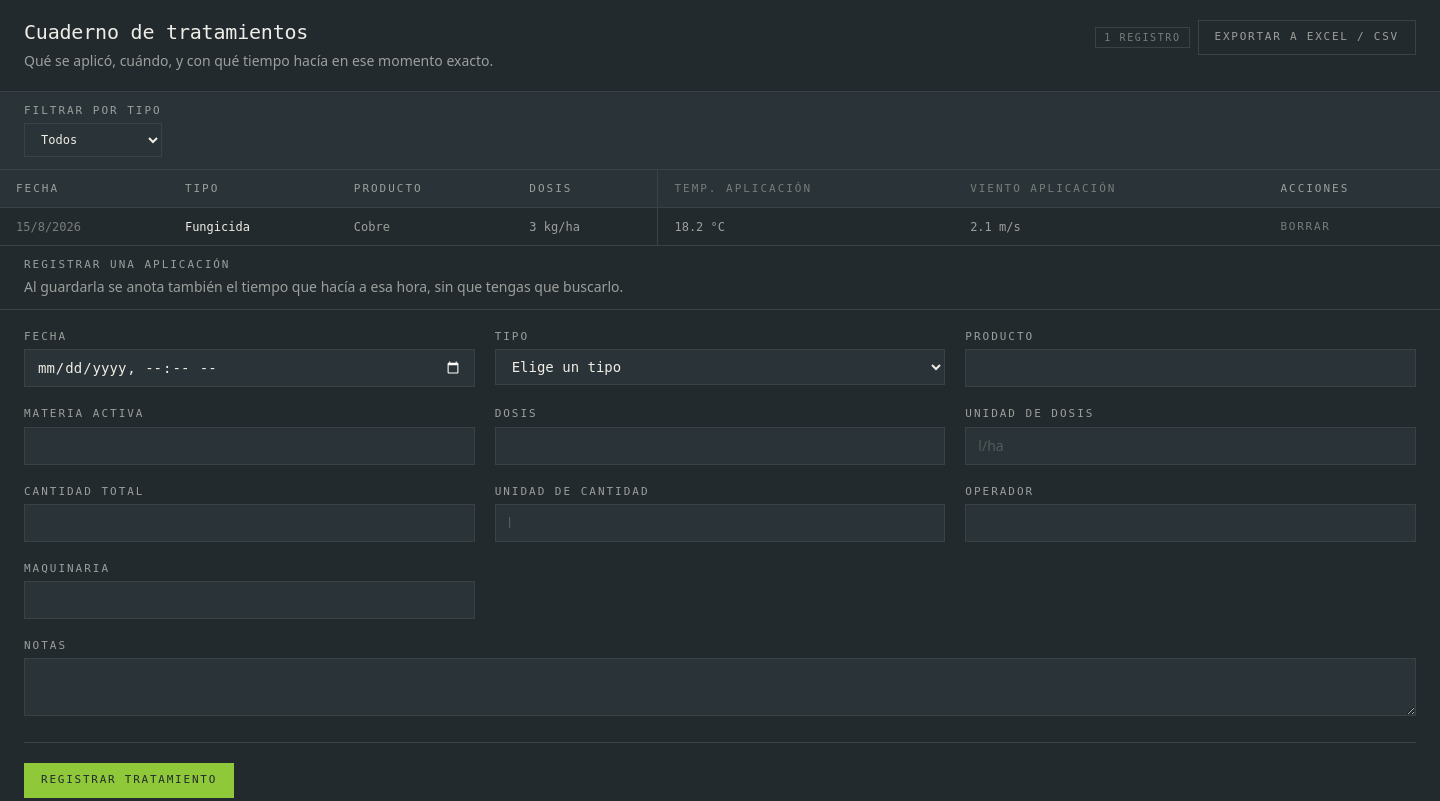
Scenario: un tipo personalizado creado queda disponible como opcion despues
Expected: the table is shown, [0,170,1439,245]
Step 1. Type "2026-08-20T09:00" into the field labelled "Fecha" → (249,368), box [24,349,475,387]
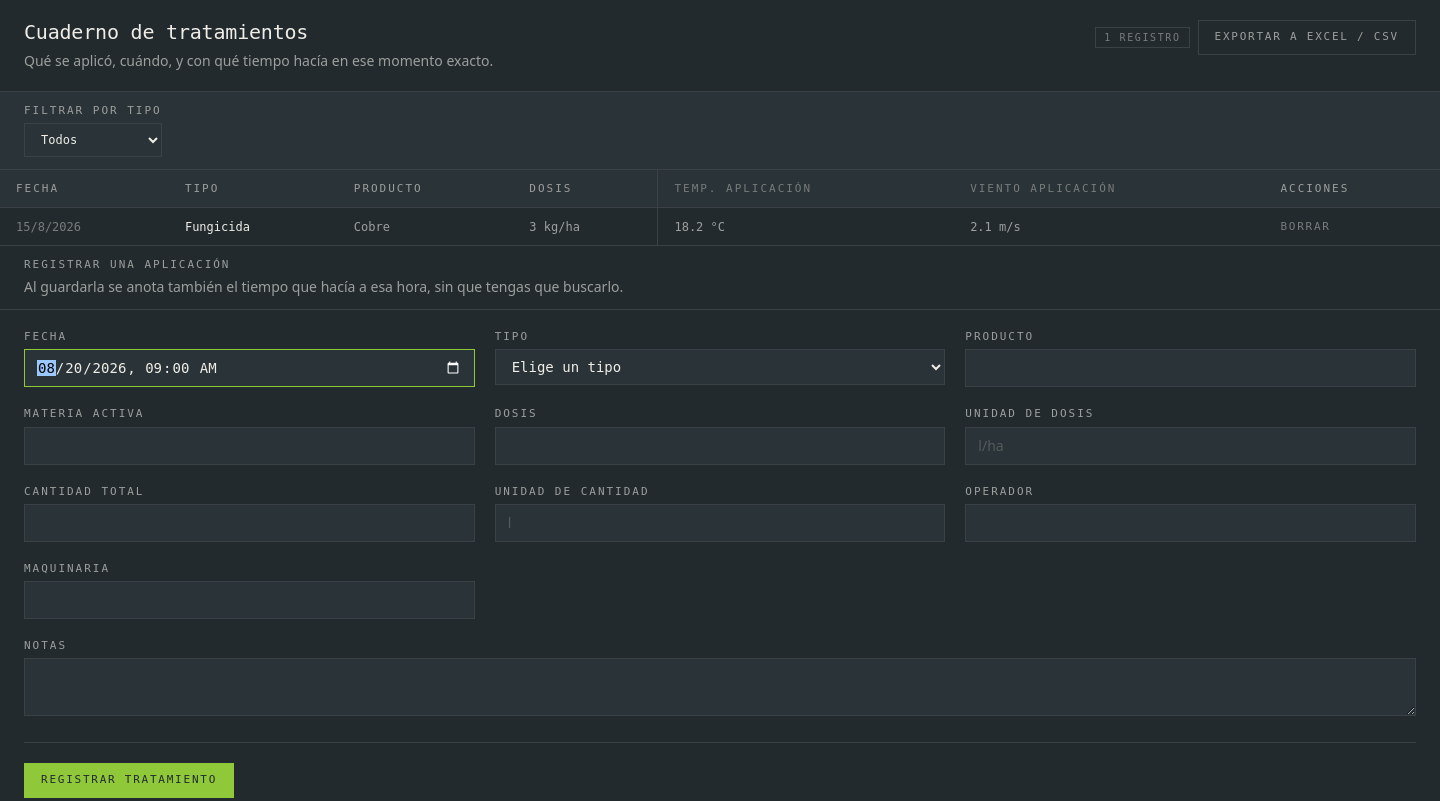
Step 2. Select "Otro" in the dropdown labelled "Tipo" → (720,367), box [495,349,945,385]
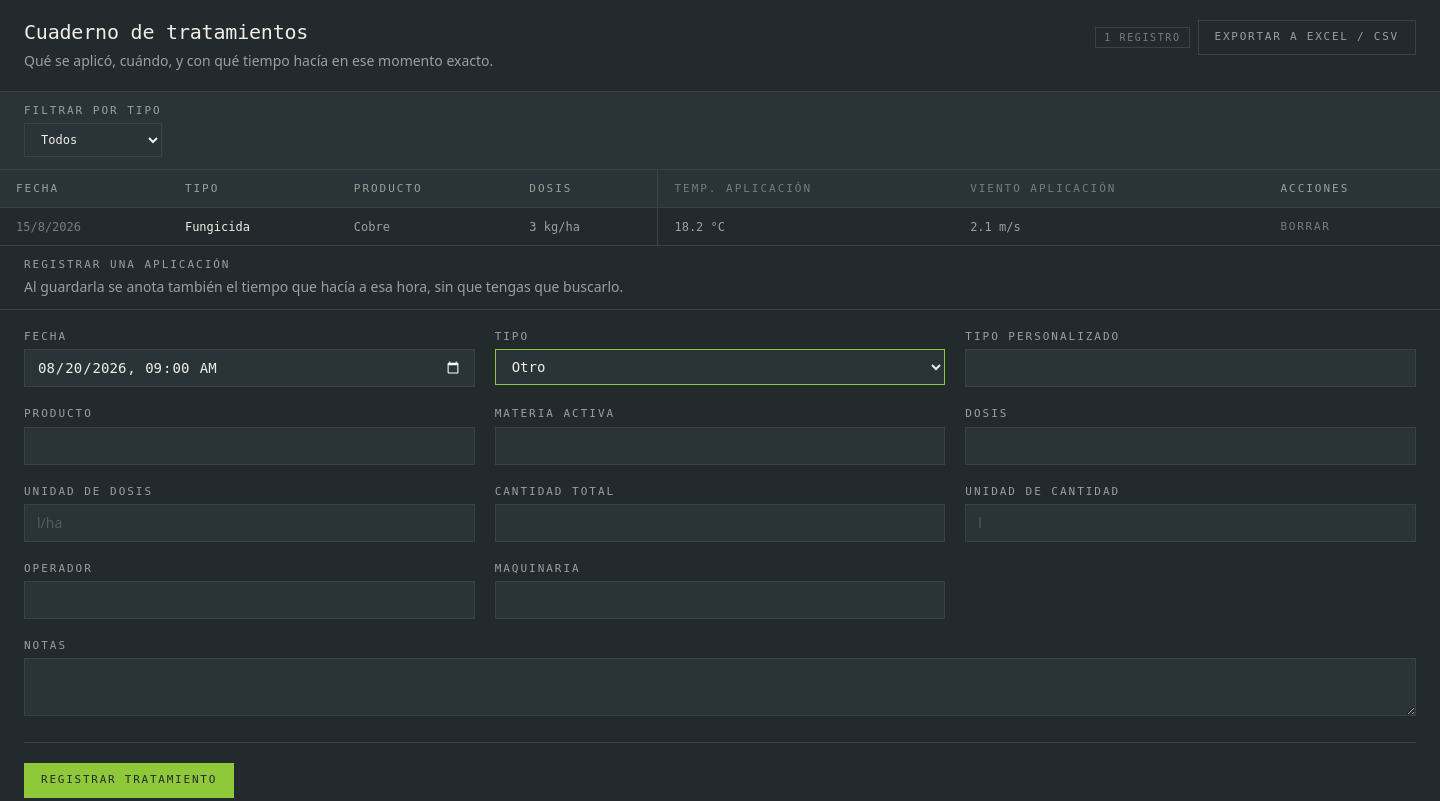
Step 3. Type "Cobertura vegetal" into the field labelled "Tipo personalizado" → (1191,368), box [965,349,1416,387]
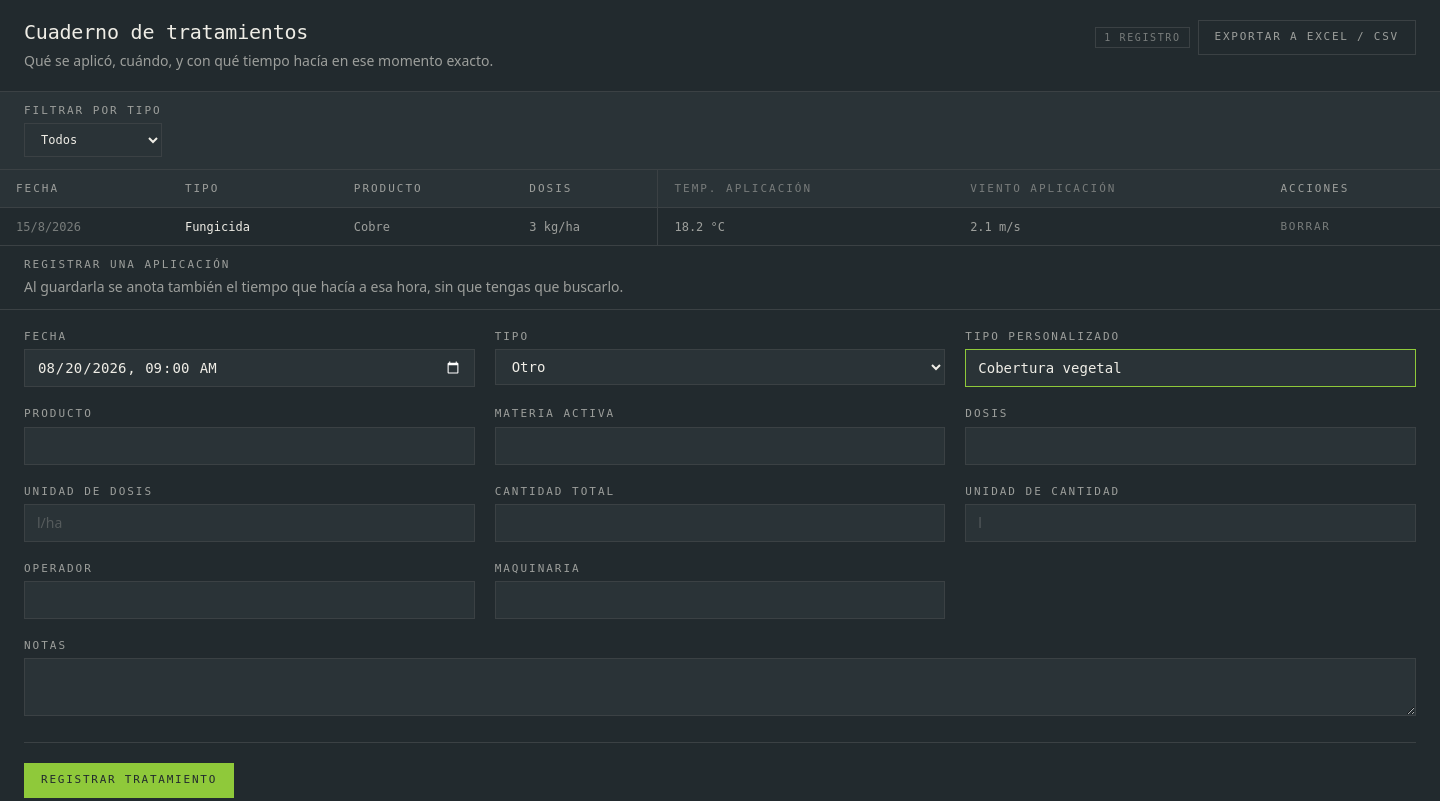
Step 4. Click the button "Registrar tratamiento" → (129,780), box [24,763,234,798]
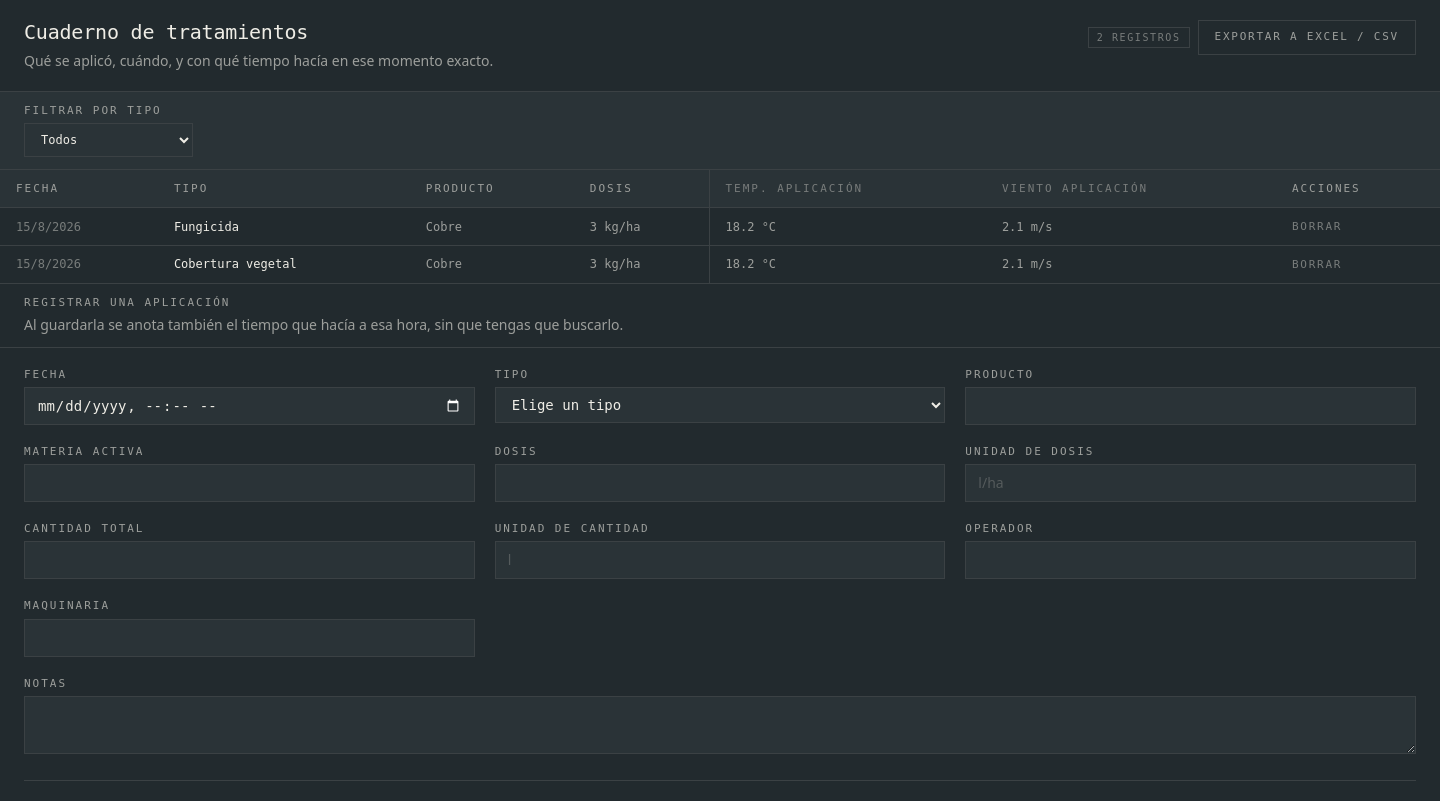
Result: the cell "Cobertura vegetal" is shown at [158,246,410,283]
